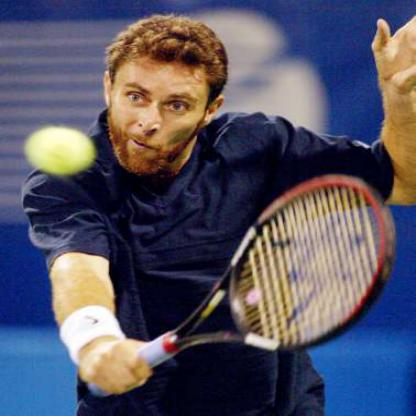face: (113, 27, 211, 177)
